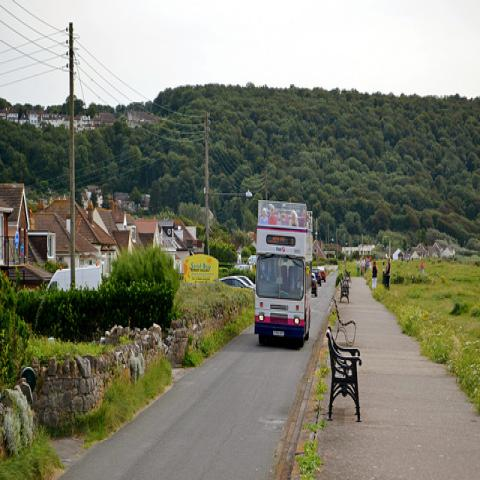bus: (254, 198, 314, 347)
car: (45, 260, 104, 290), (220, 275, 254, 291), (240, 274, 256, 291), (312, 268, 322, 287), (312, 272, 318, 297), (320, 270, 326, 279)
